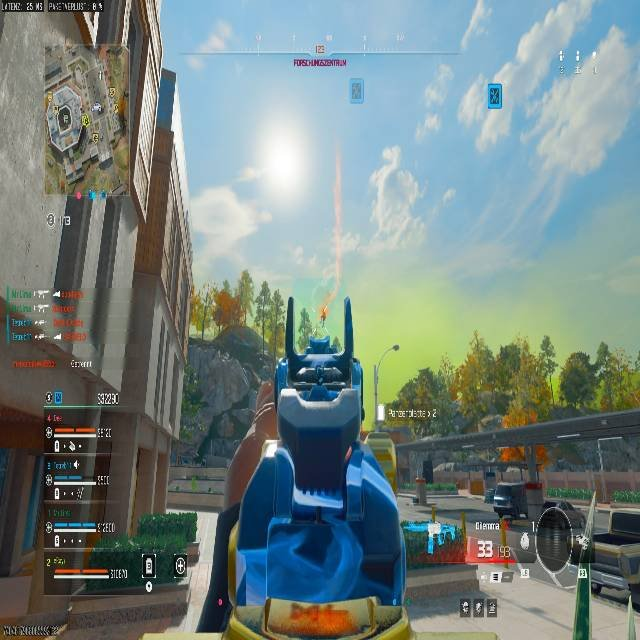head: (380, 146, 401, 169)
player: (366, 145, 421, 243)
